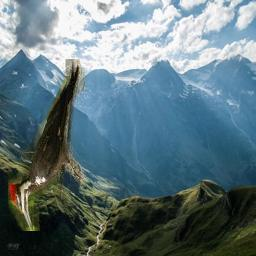Woodpecker: (9, 59, 86, 231)
